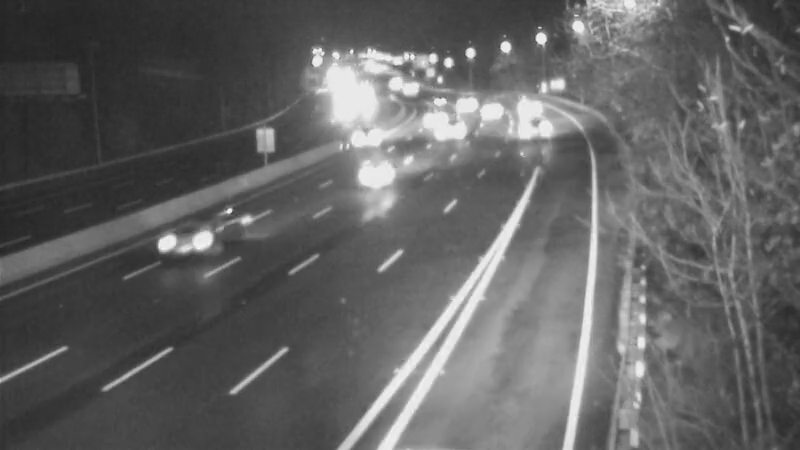vehicle: (337, 136, 417, 216), (151, 190, 231, 270), (385, 66, 435, 116), (412, 75, 462, 125), (434, 78, 484, 128), (495, 80, 545, 130), (464, 85, 514, 135), (404, 95, 454, 145), (510, 101, 560, 151), (430, 107, 480, 157), (339, 110, 389, 160), (321, 82, 371, 132)
